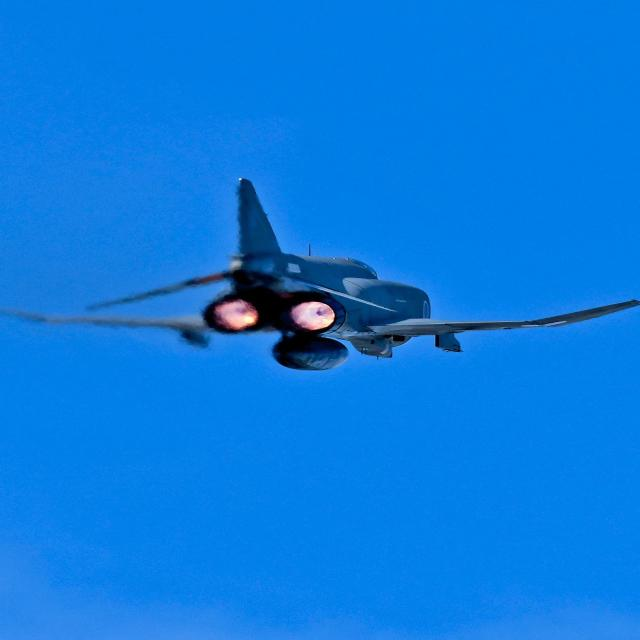MIL_Plane: (0, 178, 640, 371)
